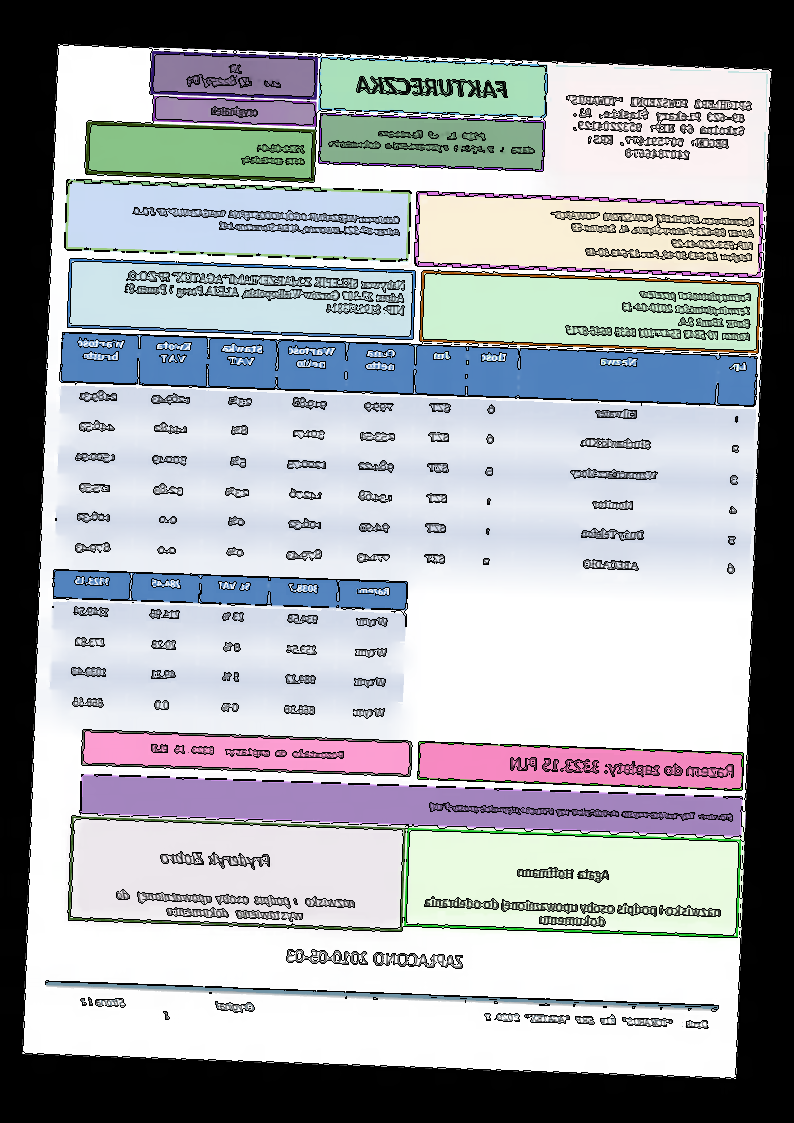Table: (55, 331, 758, 590), (47, 568, 409, 733)
TextBox: (120, 268, 407, 317), (563, 93, 754, 164), (546, 209, 757, 265), (423, 893, 722, 932), (564, 284, 754, 344), (129, 203, 404, 238), (114, 888, 356, 924), (428, 800, 736, 825), (327, 124, 538, 156), (509, 755, 736, 783), (77, 996, 256, 1023), (284, 946, 465, 970), (484, 1011, 710, 1030), (150, 742, 345, 763), (356, 74, 509, 100), (183, 60, 284, 91), (158, 847, 273, 872), (240, 141, 307, 168), (516, 865, 611, 884), (209, 103, 260, 120)
